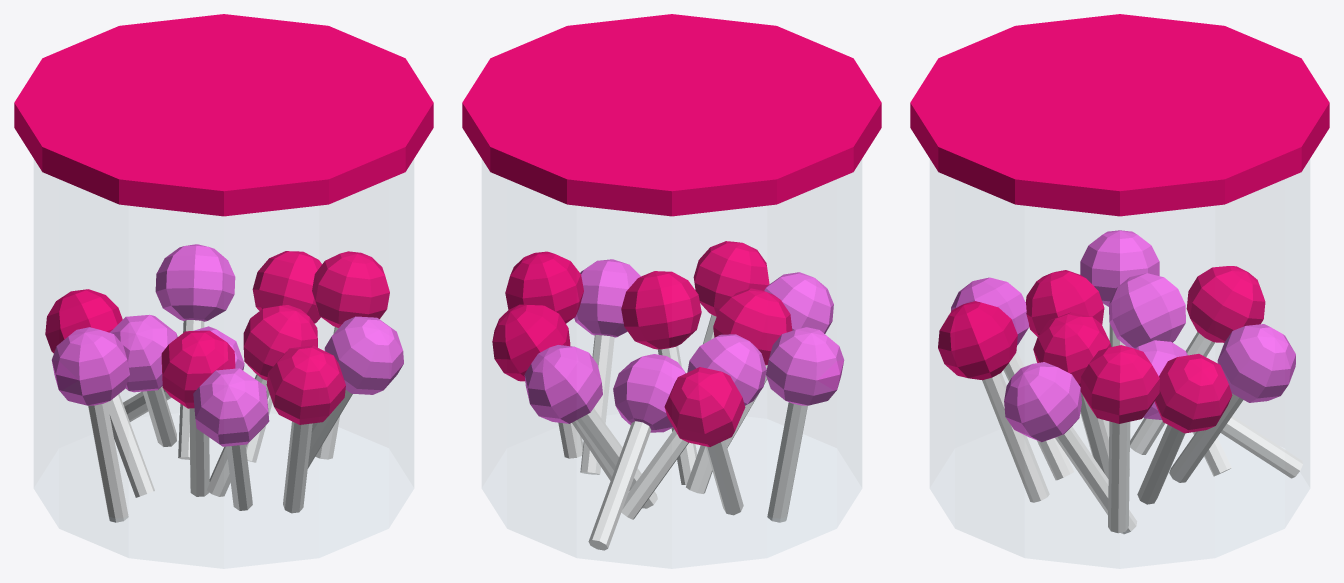
Rendered from JarraDePirulito.fbx.
3 renders of one model, left to right at view 1: azimuth 30°, elevation 25°; view 2: azimuth 150°, elevation 25°; view 3: azimuth 270°, elevation 25°, orthographic.
Visible parts, largest first — view 1: JarraDePirulitos; view 2: JarraDePirulitos; view 3: JarraDePirulitos.
Boxes of the visible parts, left/top/right/bottom form: JarraDePirulitos: left=14, top=14, right=433, bottom=568; JarraDePirulitos: left=462, top=14, right=881, bottom=568; JarraDePirulitos: left=910, top=14, right=1329, bottom=568.
Bounding box in the file's own units: 21.24 × 21.87 × 21.24.
Materials: 2 (1 with a texture image).
